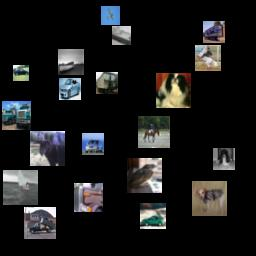airplane: (101, 6, 120, 25)
automobile: (140, 203, 166, 229), (59, 78, 81, 100), (82, 133, 104, 155), (13, 65, 29, 81)
bird: (127, 158, 162, 193)
dog: (192, 181, 227, 216), (156, 73, 191, 108), (30, 131, 65, 166), (213, 148, 235, 170)
ship: (3, 170, 38, 205), (58, 49, 84, 75), (112, 26, 131, 45)
truck: (24, 207, 56, 239), (2, 101, 31, 130), (74, 183, 103, 212), (96, 72, 118, 94), (203, 21, 225, 43)
